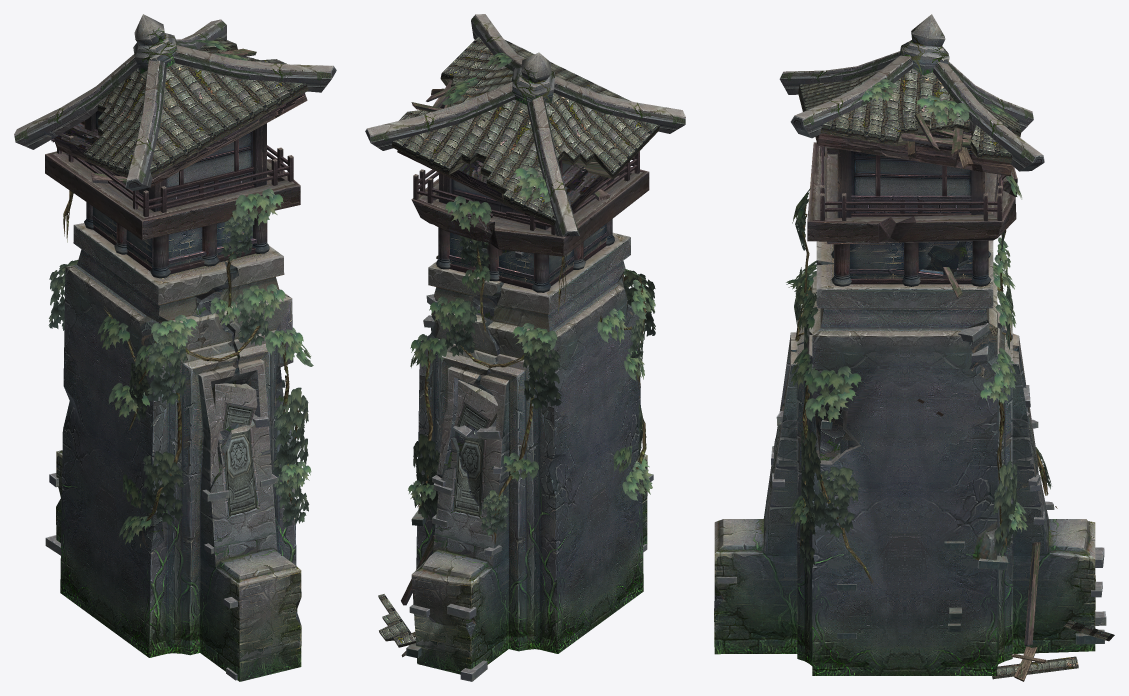
File: Item_4.FBX
3 views of the same model, side by side, from view 1: azimuth 30°, elevation 25°; view 2: azimuth 150°, elevation 25°; view 3: azimuth 270°, elevation 25° (orthographic). The views are drawn at different scales.
Visible parts, largest first — view 1: Item_4_A, Item_4_B; view 2: Item_4_A, Item_4_B; view 3: Item_4_A, Item_4_B.
Boxes of the visible parts, box(x1,y1,x2,y2) form: Item_4_A: box(14, 14, 336, 681); Item_4_B: box(48, 39, 313, 547); Item_4_A: box(365, 14, 685, 681); Item_4_B: box(408, 52, 655, 559); Item_4_A: box(714, 14, 1114, 681); Item_4_B: box(786, 79, 1057, 584).
Size of the model in its own units: 343 by 904 by 528.
